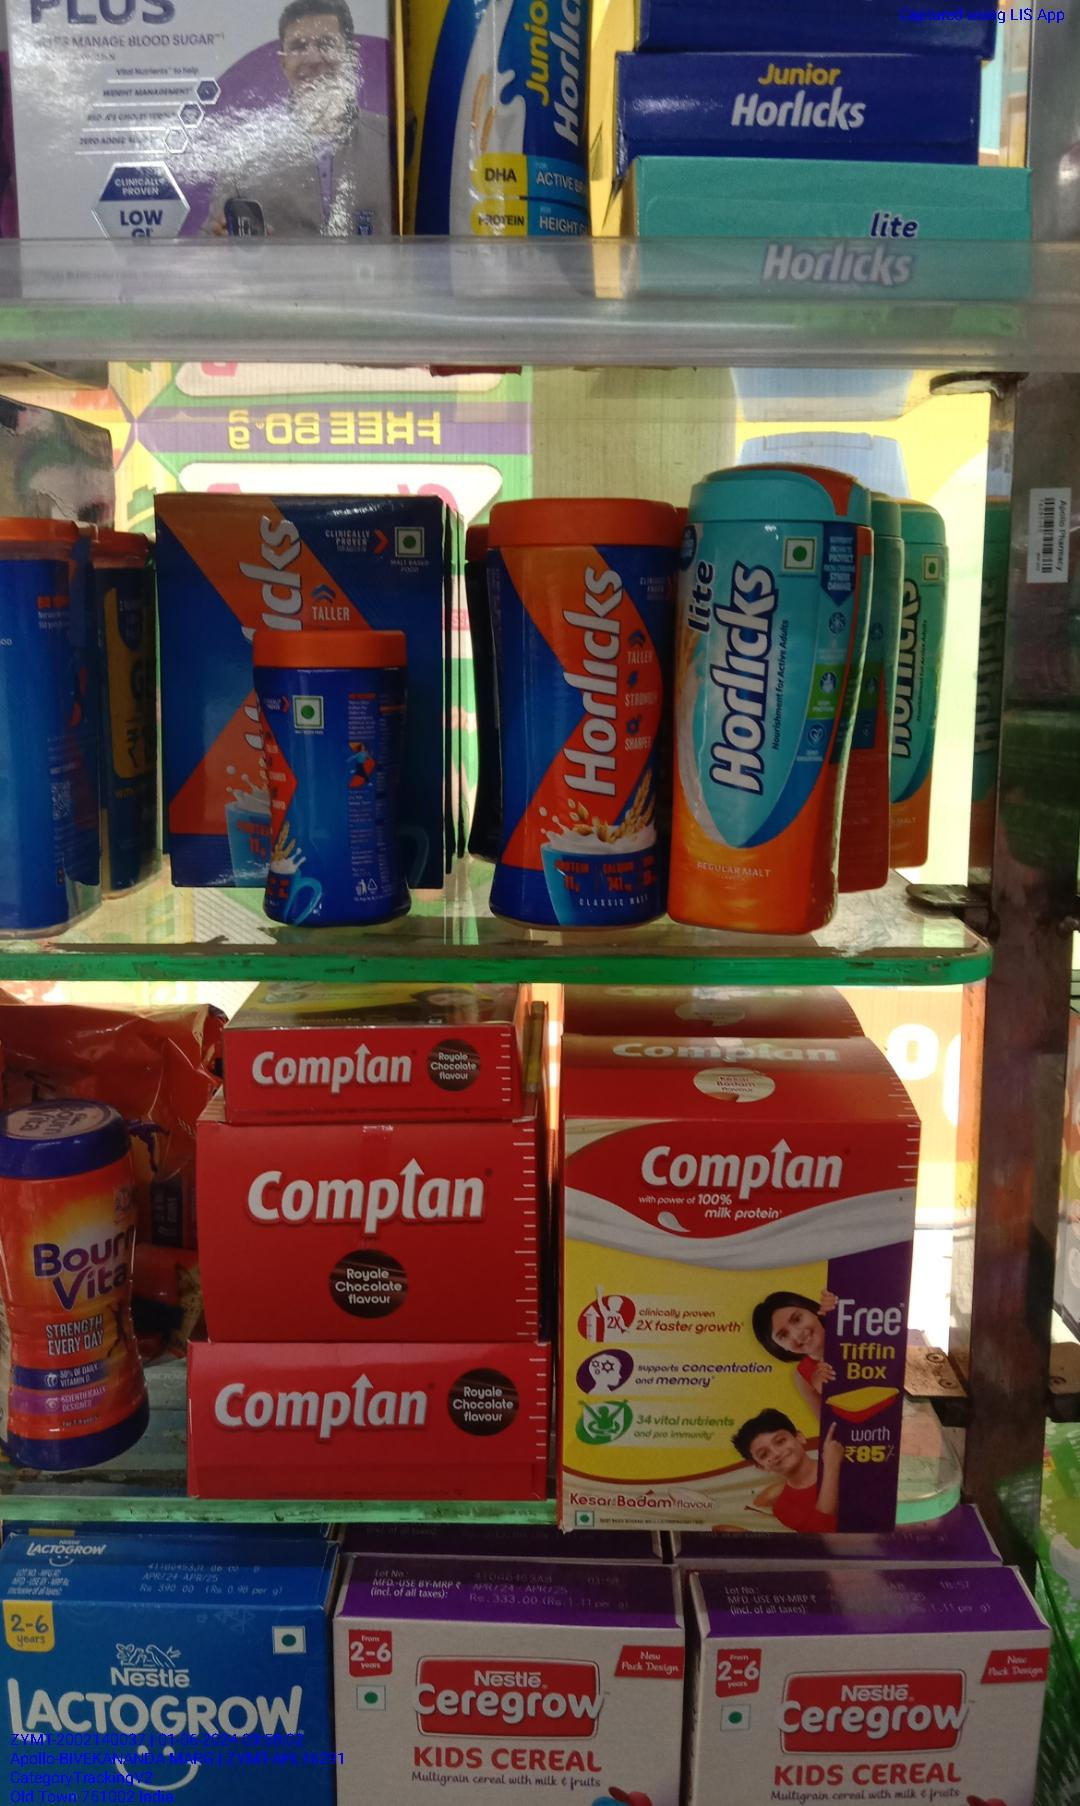BOURN_VITA_200_G_JAR: (4, 1095, 149, 1455)
HORLICKS_LITE_REGULAR_MALT_500_GM_JAR: (689, 464, 874, 928)
